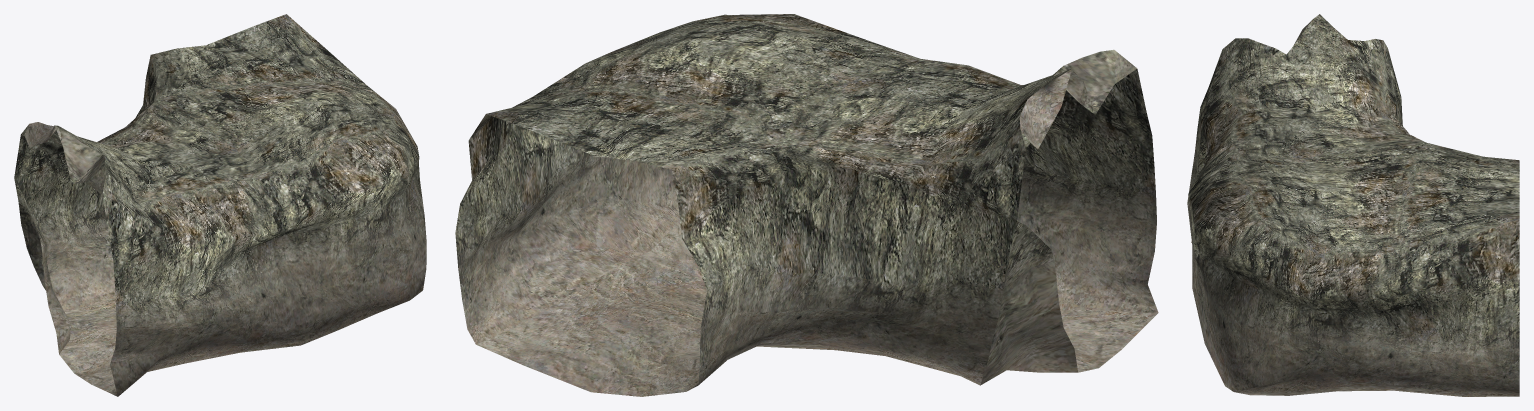
File: poi_all_bunker_mad_bio_s01_r2_hall1_mesh_r2.fbx
3 views of the same model, side by side, from view 1: azimuth 30°, elevation 25°; view 2: azimuth 150°, elevation 25°; view 3: azimuth 270°, elevation 25° (orthographic). The views are drawn at different scales.
Parts seen in each view (by area): view 1: mesh_node; view 2: mesh_node; view 3: mesh_node.
Part boxes in pixels (box(x1,y1,x2,y2)): mesh_node: box(14, 14, 426, 396); mesh_node: box(455, 14, 1158, 396); mesh_node: box(1187, 14, 1519, 396).
Bounding box in the file's own units: 18.25 × 11.7 × 14.21.
